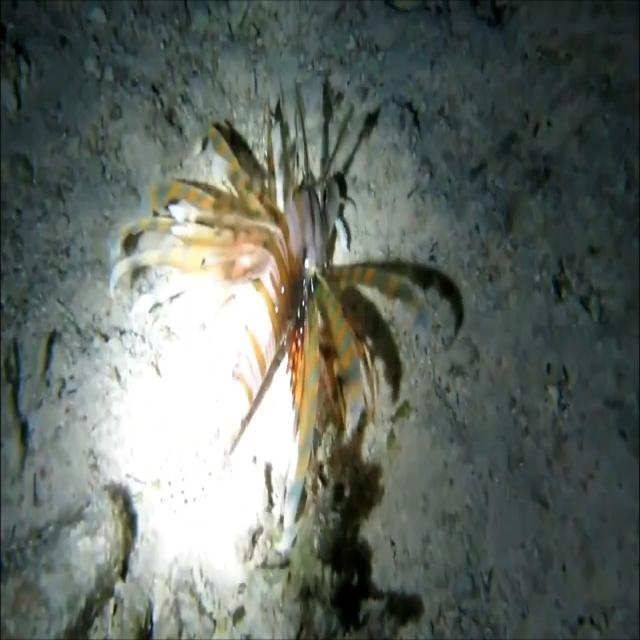Lionfish -Endangered- -Poisonous-: (126, 96, 414, 437)
